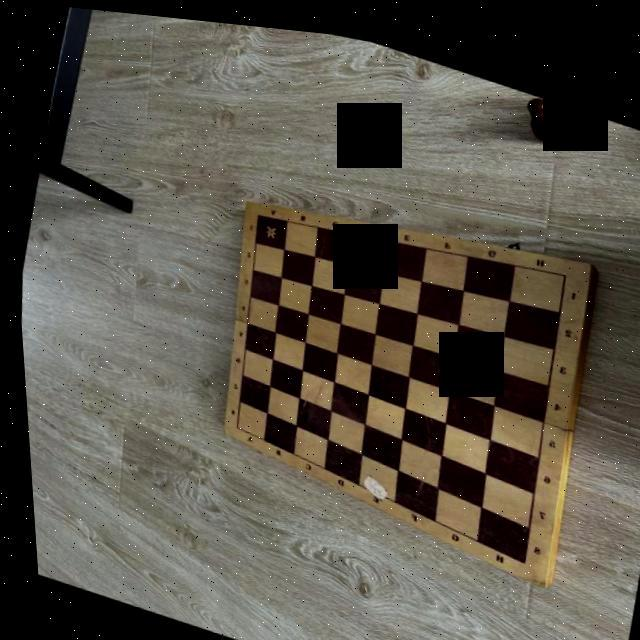chess-table-corners: (506, 544, 525, 560), (222, 414, 238, 430), (553, 258, 567, 270), (250, 206, 257, 214)
